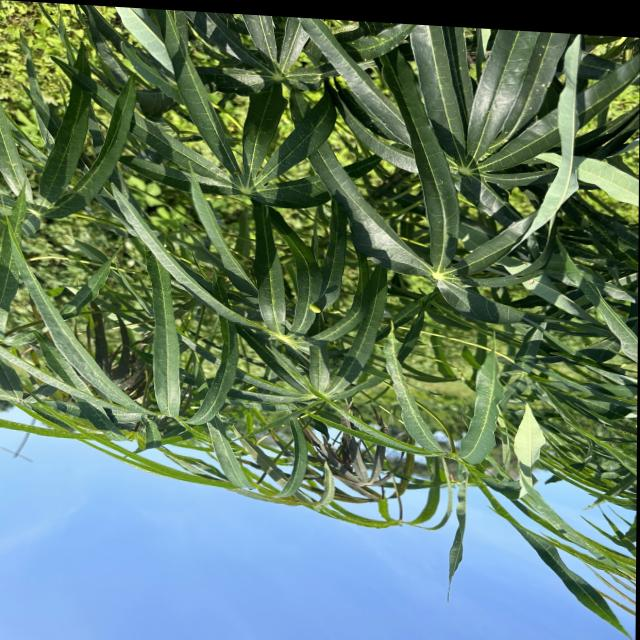Mosca: (255, 151, 281, 179), (307, 295, 338, 318)
